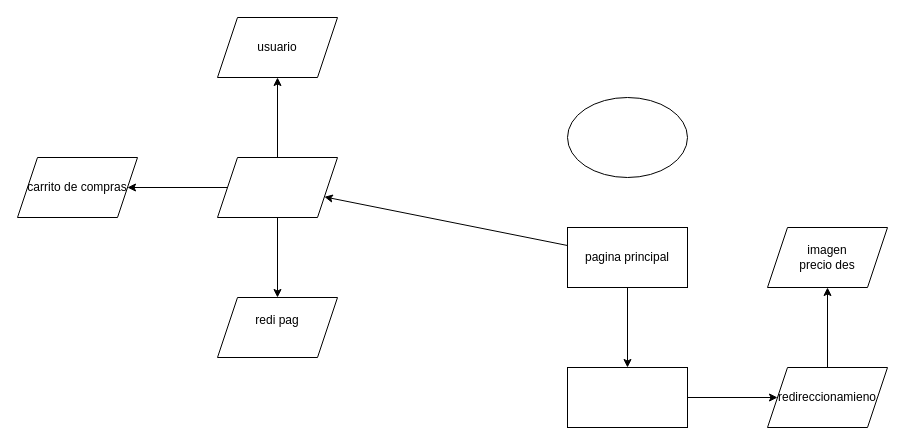
Image size: 905x445. Some labels were removed from this diagram. Here are the shapes that lost their labels. From the top down, the centre of each, then its label:
point 627,137: sadsa
point 277,187: navbar
point 627,397: carta de la gorra
